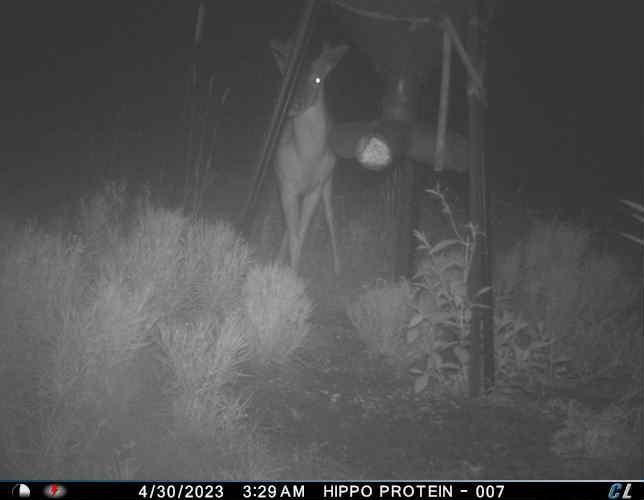Deer: (265, 30, 352, 281)
